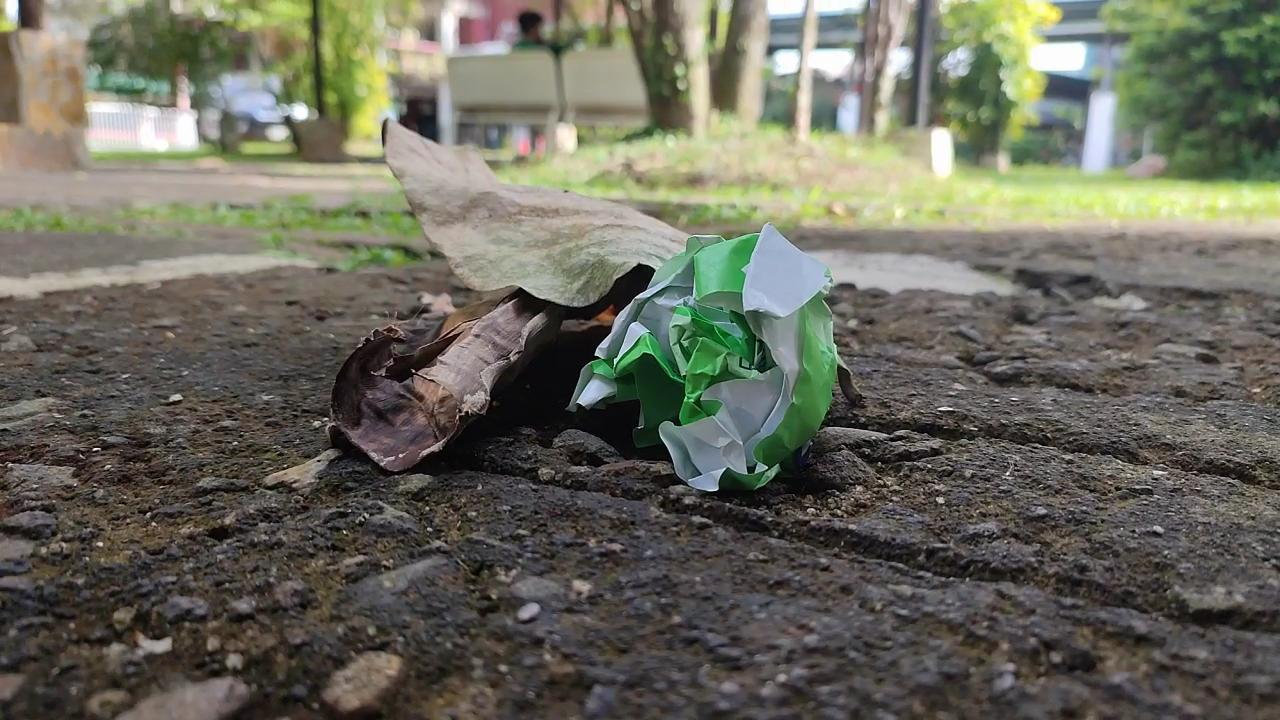Paper: (546, 204, 850, 522)
